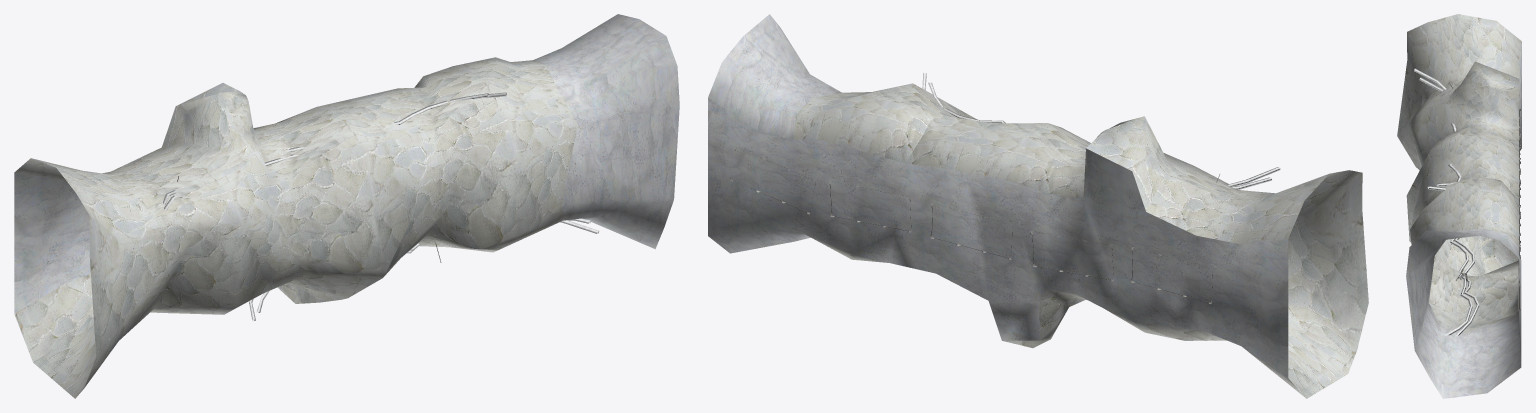
File: rv_mod_tem_natural_corridor.obj
3 renders of one model, left to right at view 1: azimuth 30°, elevation 25°; view 2: azimuth 150°, elevation 25°; view 3: azimuth 270°, elevation 25°, orthographic. The views are drawn at different scales.
Parts seen in each view (by area): view 1: rv_mod_tem_natural_corridor; view 2: rv_mod_tem_natural_corridor; view 3: rv_mod_tem_natural_corridor.
Boxes of the visible parts, bbox=[...] form: rv_mod_tem_natural_corridor: bbox=[14, 14, 679, 398]; rv_mod_tem_natural_corridor: bbox=[708, 14, 1368, 398]; rv_mod_tem_natural_corridor: bbox=[1397, 14, 1521, 398].
Size of the model in its own units: 28.75 by 11.43 by 6.92.
Materials: 6 (6 with a texture image).
